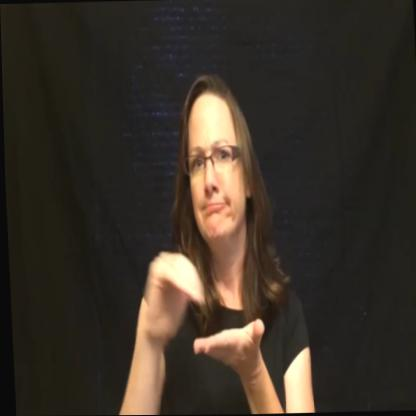ExcuseMe: (136, 211, 282, 415)
